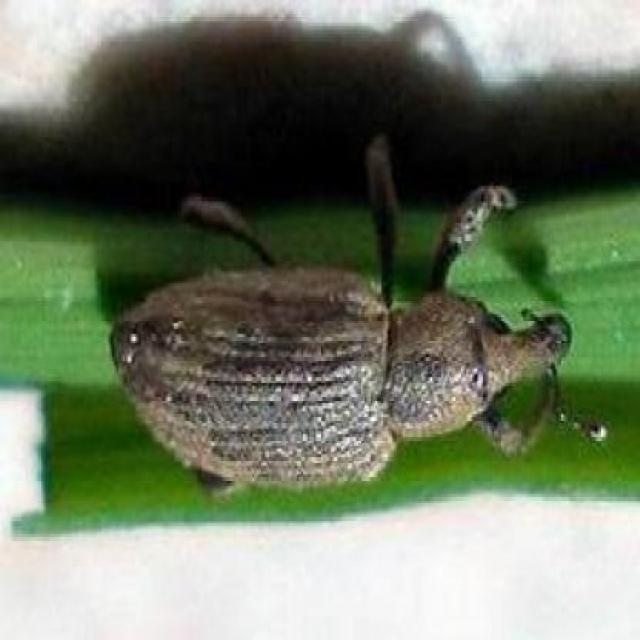rice-bug: (109, 137, 594, 501)
